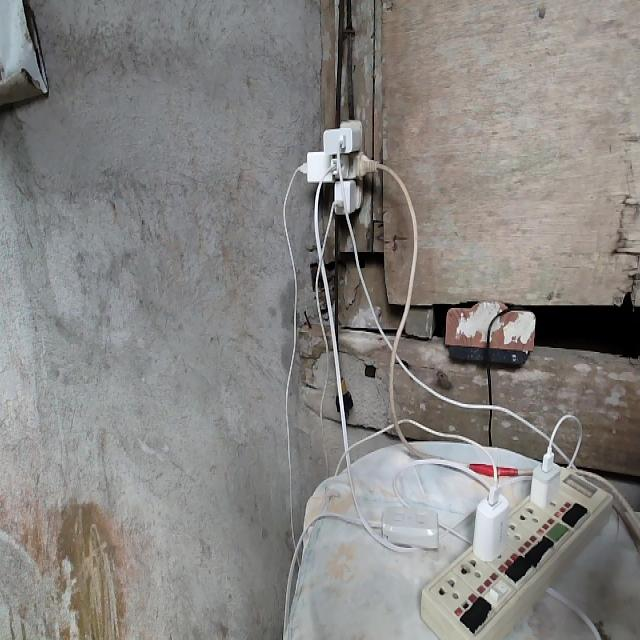-: (300, 116, 386, 220)
